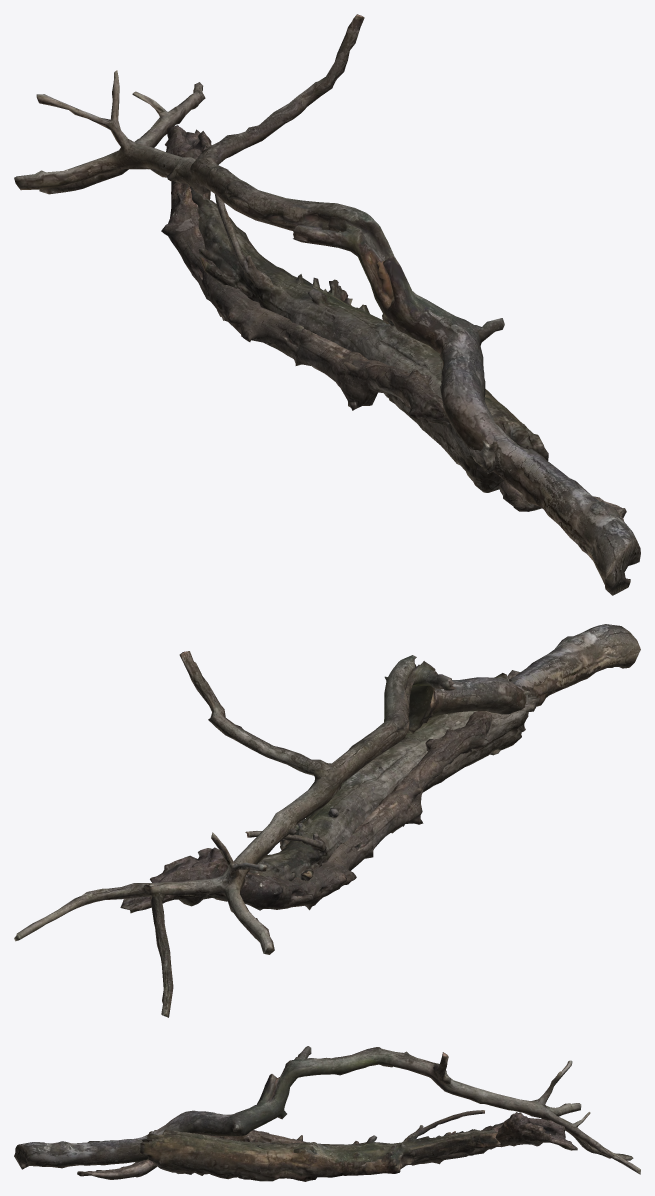
Rendered from dry_branches_medium_01.glb.
3 renders of one model, top to bottom at view 1: azimuth 30°, elevation 25°; view 2: azimuth 150°, elevation 25°; view 3: azimuth 270°, elevation 25°, orthographic. The views are drawn at different scales.
Parts seen in each view (by area): view 1: dry_branches_medium_01_a_lod0, dry_branches_medium_01_c_lod0, dry_branches_medium_01_b_lod0; view 2: dry_branches_medium_01_a_lod0, dry_branches_medium_01_b_lod0, dry_branches_medium_01_c_lod0; view 3: dry_branches_medium_01_a_lod0, dry_branches_medium_01_c_lod0, dry_branches_medium_01_b_lod0.
Part boxes in pixels (box(x1,y1,x2,y2)): dry_branches_medium_01_a_lod0: box(14, 14, 640, 595); dry_branches_medium_01_c_lod0: box(189, 186, 548, 492); dry_branches_medium_01_b_lod0: box(161, 125, 626, 520); dry_branches_medium_01_a_lod0: box(14, 624, 640, 1017); dry_branches_medium_01_b_lod0: box(120, 670, 525, 913); dry_branches_medium_01_c_lod0: box(245, 673, 539, 881); dry_branches_medium_01_a_lod0: box(14, 1046, 640, 1174); dry_branches_medium_01_c_lod0: box(140, 1110, 504, 1181); dry_branches_medium_01_b_lod0: box(77, 1112, 577, 1179).
Size of what is drawn, in the model's own units: 0.3227 by 0.3411 by 1.3.
Materials: 1 (1 with a texture image).
